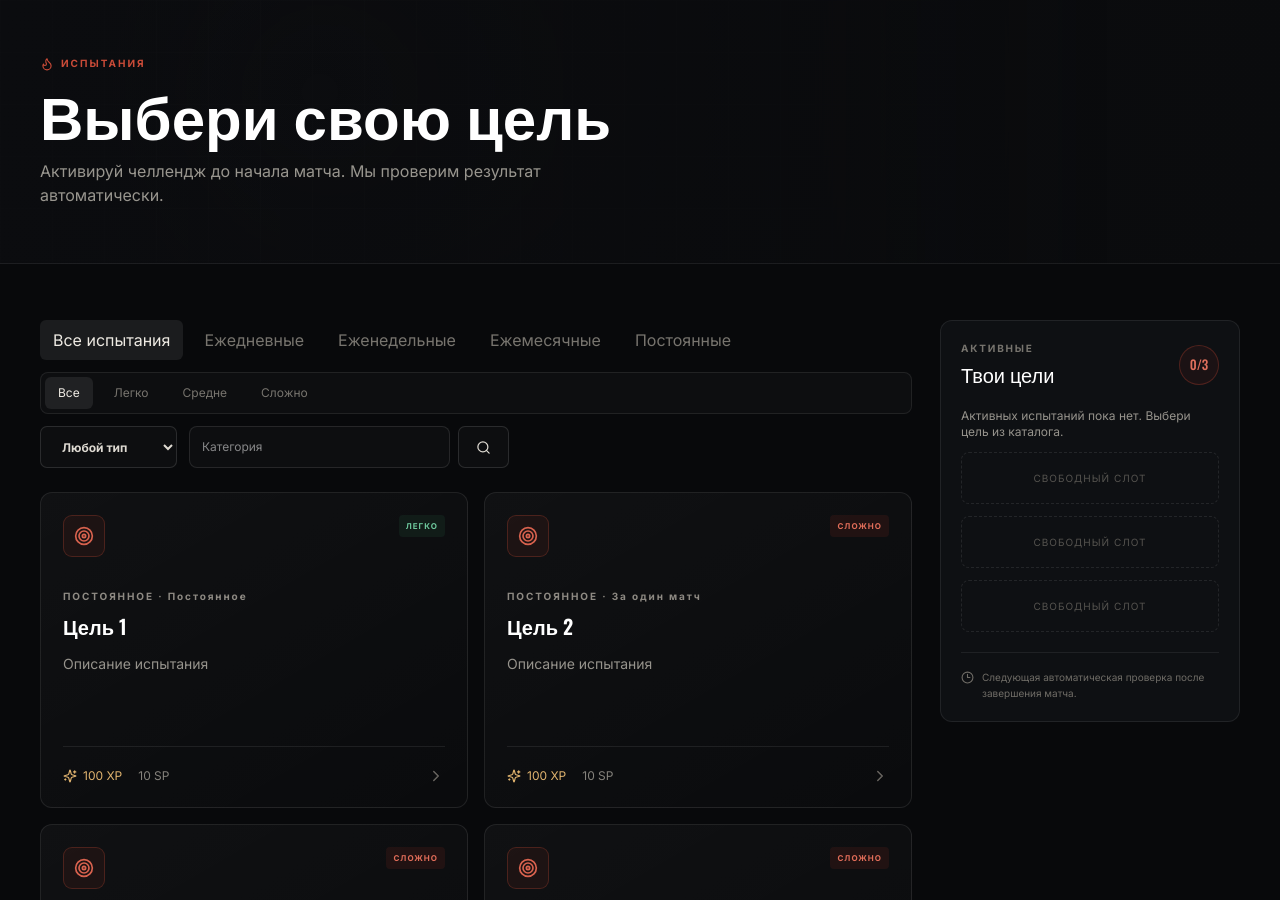
activates and cancels through API, then refreshes the active cache
Click the button "Цель 1".
click(84, 536)  # box [40, 492, 468, 808]
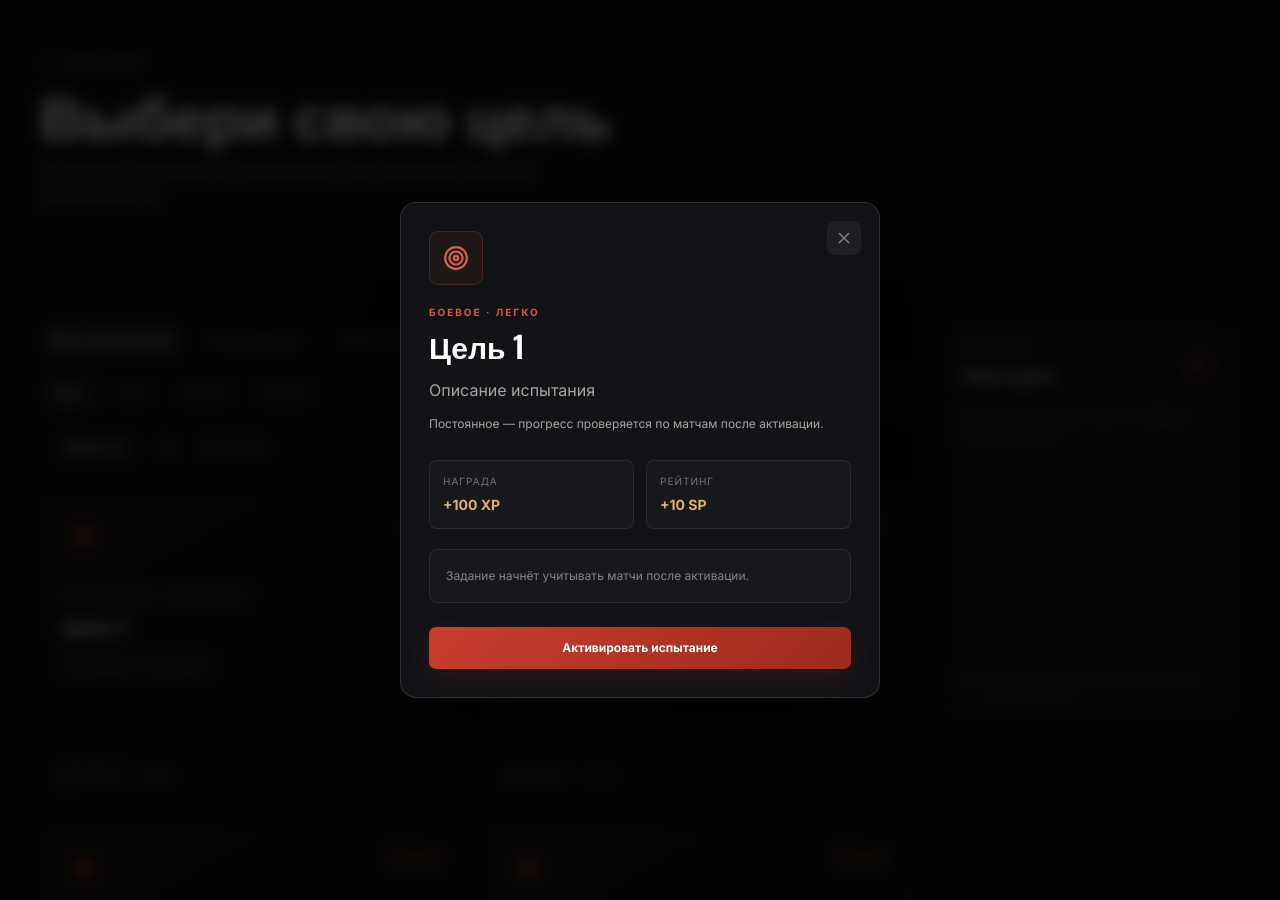
Click the button "Активировать испытание".
click(640, 648)  # box [429, 627, 851, 669]
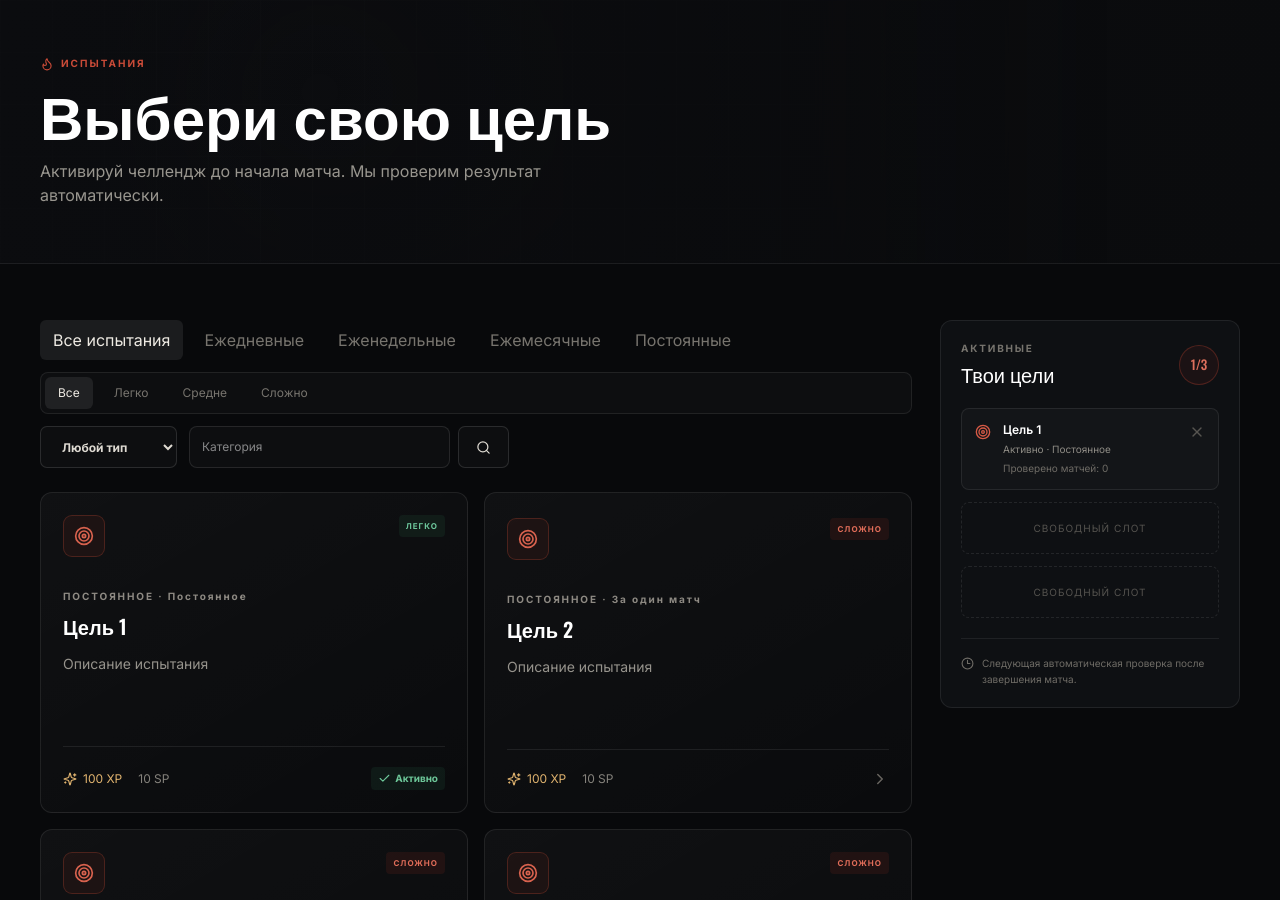
Result: the text "1/3" is shown at [1179, 344, 1219, 384]
Click the button named "Отменить".
click(1197, 432)  # box [1189, 424, 1205, 440]
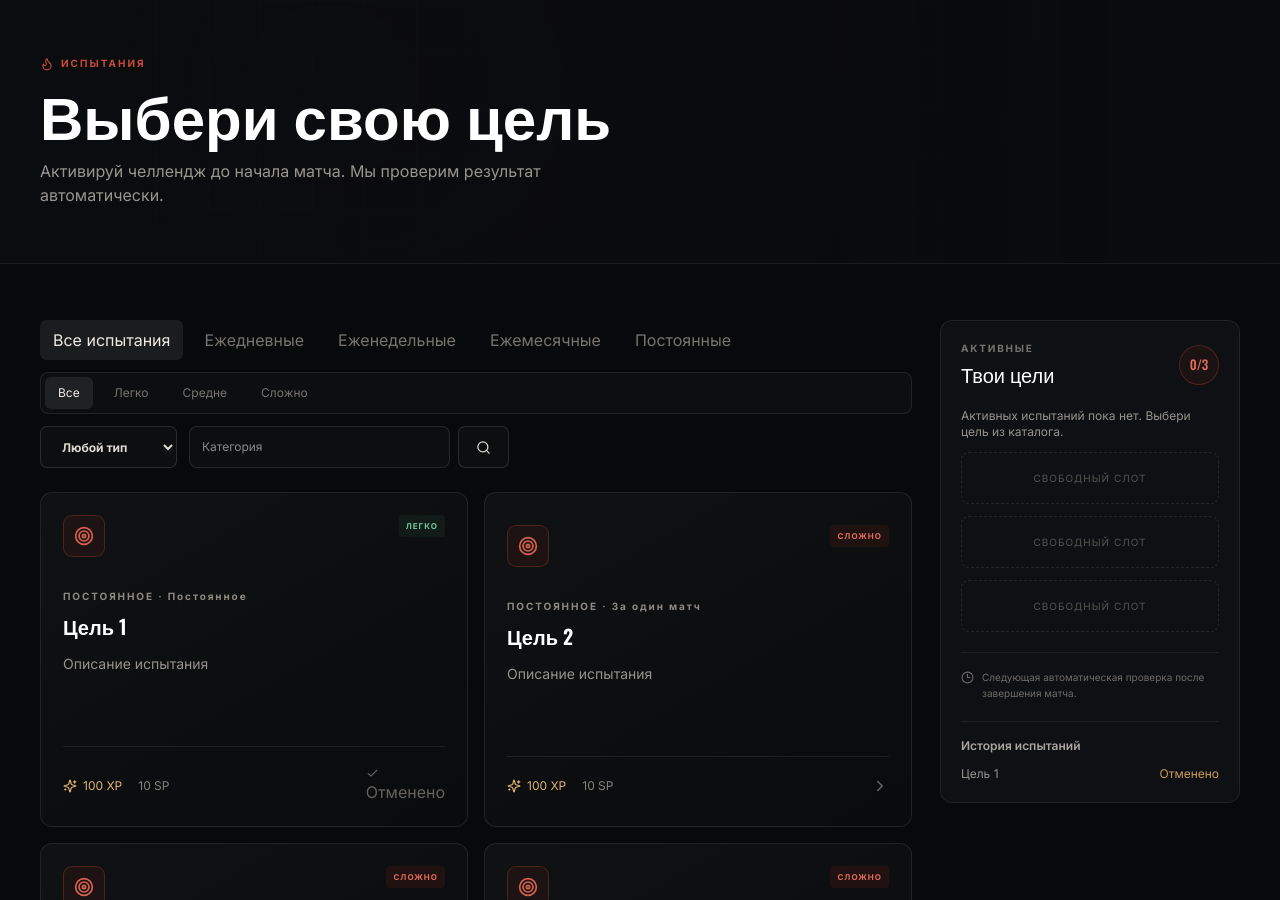
Result: the text "0/3" is shown at [1179, 344, 1219, 384]
Result: the heading "История испытаний" is shown at [961, 738, 1080, 753]
